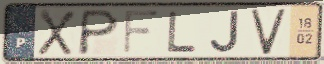F: (121, 8, 161, 56)
J: (208, 9, 241, 55)
L: (166, 10, 200, 54)
P: (75, 8, 122, 57)
V: (249, 6, 289, 56)
X: (36, 7, 78, 58)
